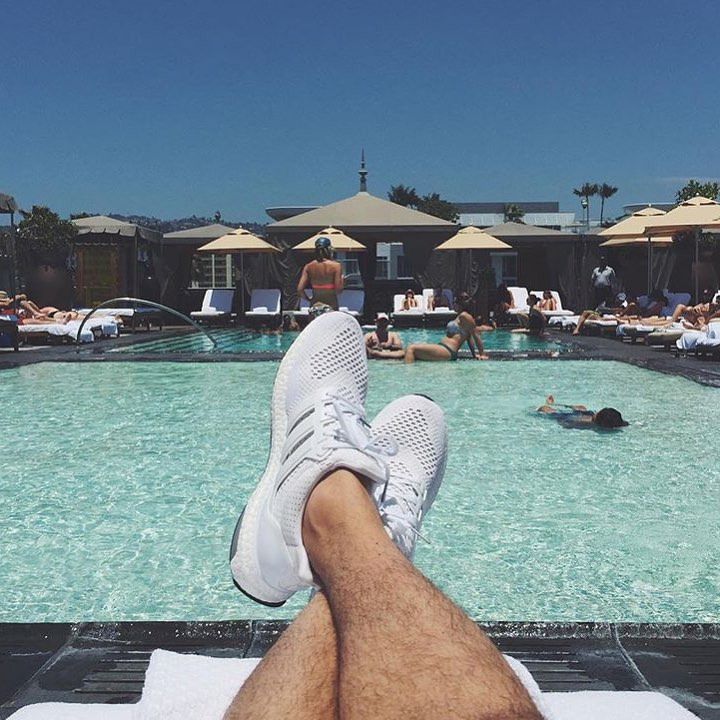sneaker: (208, 298, 396, 621), (363, 372, 459, 597)
